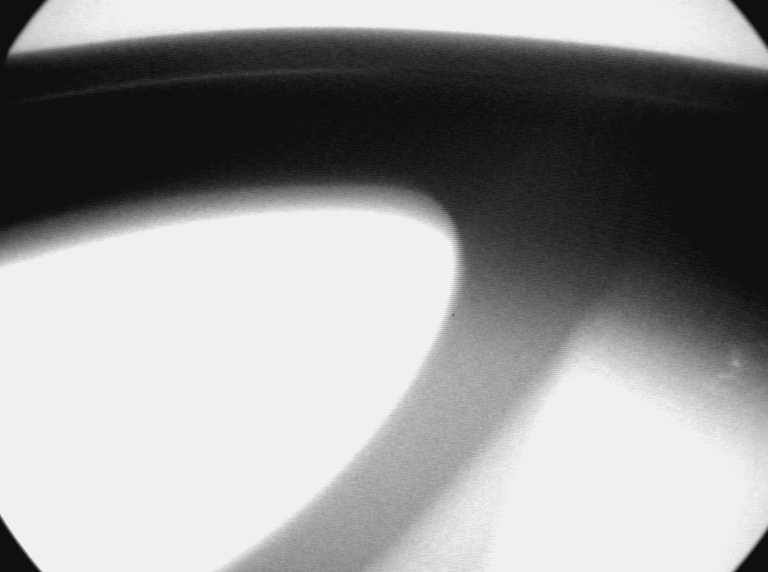defect: (697, 332, 766, 413)
